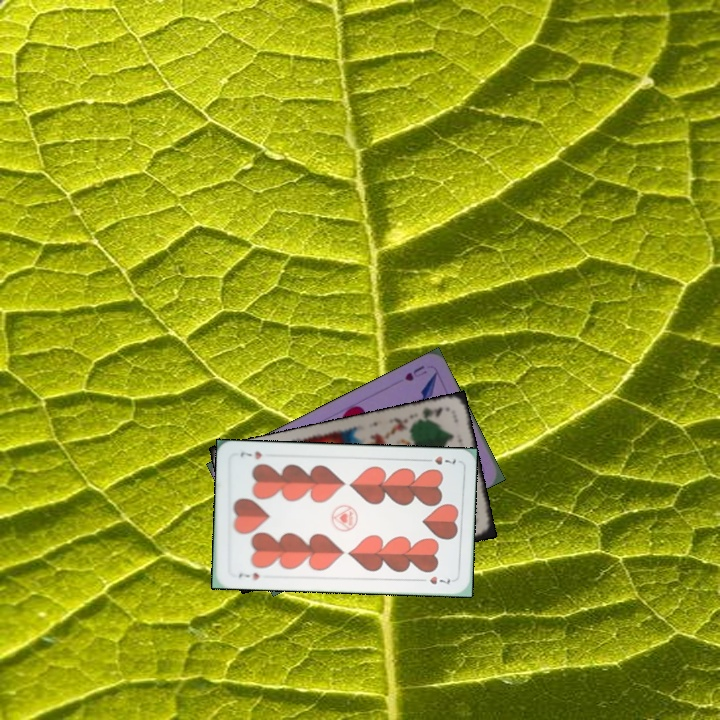GK: (419, 402, 446, 420)
H7: (420, 452, 458, 468), (234, 569, 262, 582)
HU: (401, 361, 429, 384)
